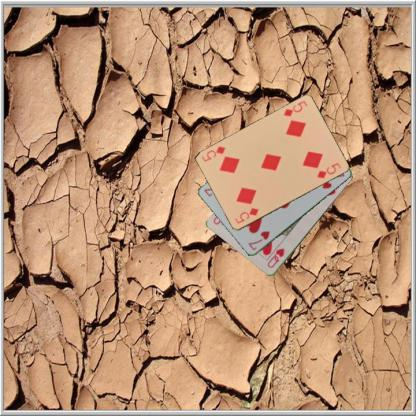5d: (232, 205, 260, 225), (280, 98, 308, 118)
7h: (245, 228, 272, 251)
Qh: (264, 245, 286, 270)
